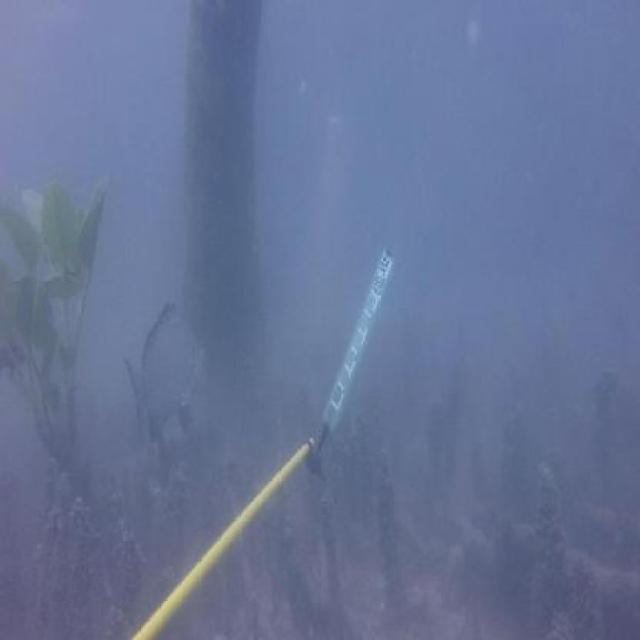acanthopagrus_palmaris: (124, 294, 213, 448)
